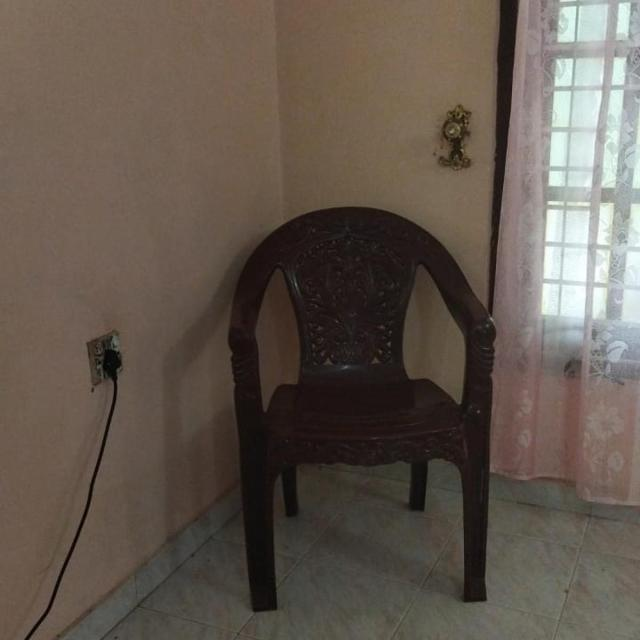chair: (227, 203, 499, 612)
